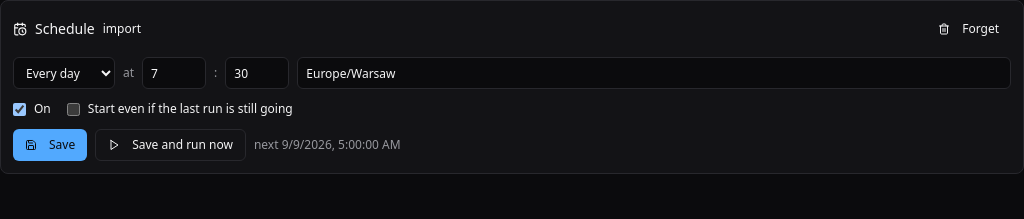
it: forgetting a schedule › keeps the schedule on screen when the delete was refused
Expected: the number field named "Schedule hour" holds "7", [142,57,206,89]
Click the button "Forget" at (969, 29), box [926,13,1011,45]
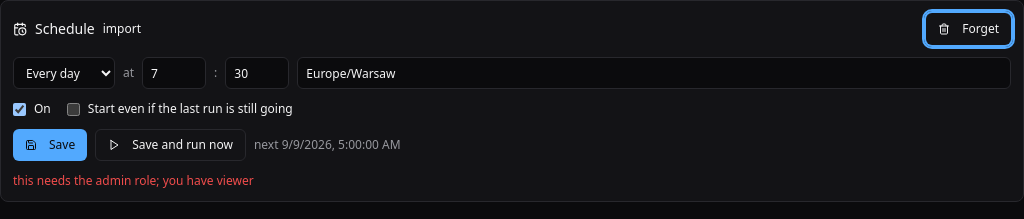
Expected: the number field named "Schedule hour" holds "7", [142,57,206,89]
Result: the list item "this needs the admin role; you have viewer" is shown at [13,172,254,189]
